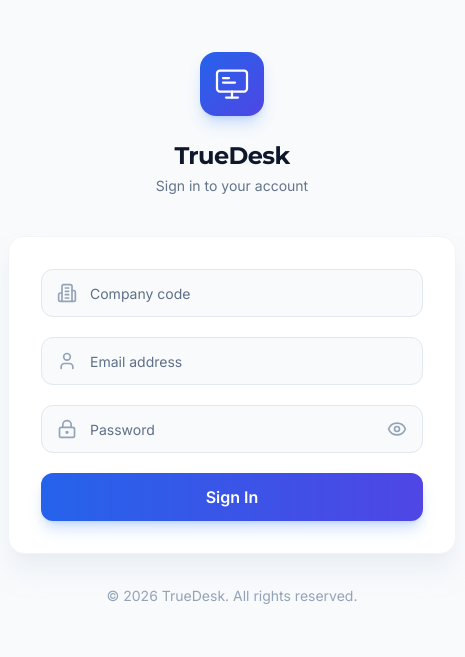
it: Login — 1.12: Zod validation errors › shows validation error when email field is empty
Submit without typing anything
Click the button "Sign In" at (232, 497), box [41,473,423,521]
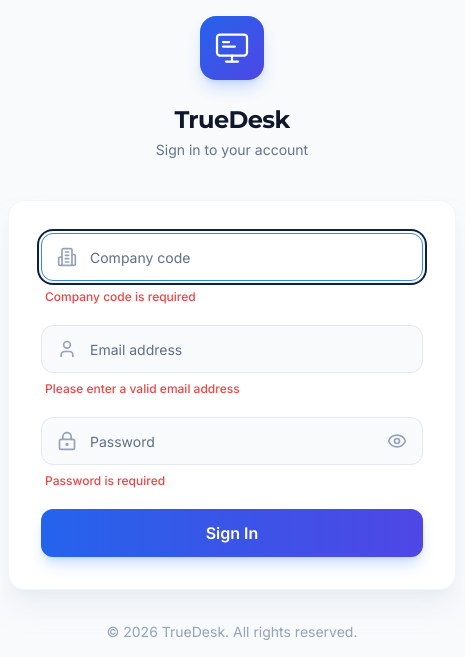
Result: the text "Please enter a valid email address" is shown at [45,381,240,396]
